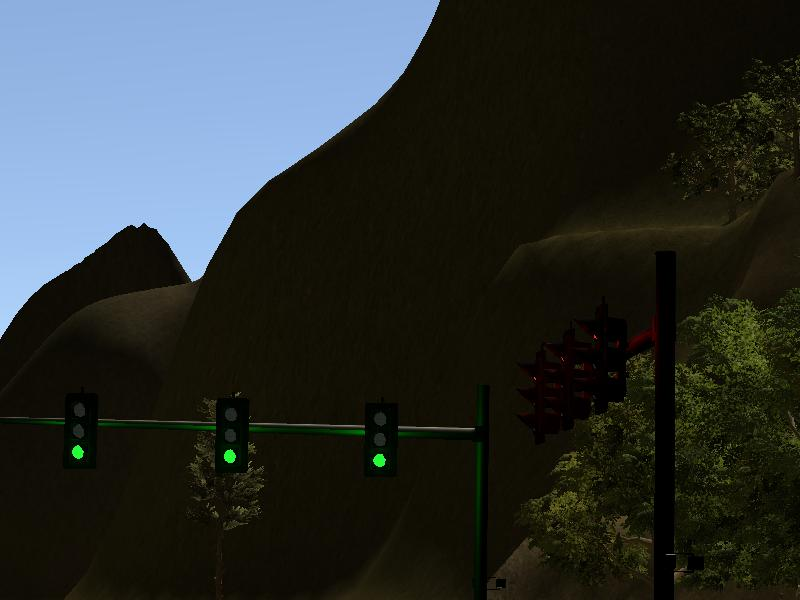Green: (65, 394, 98, 467), (217, 398, 249, 471), (365, 405, 396, 478)
